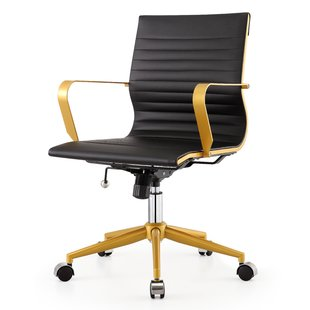chairs: (47, 11, 263, 299)
